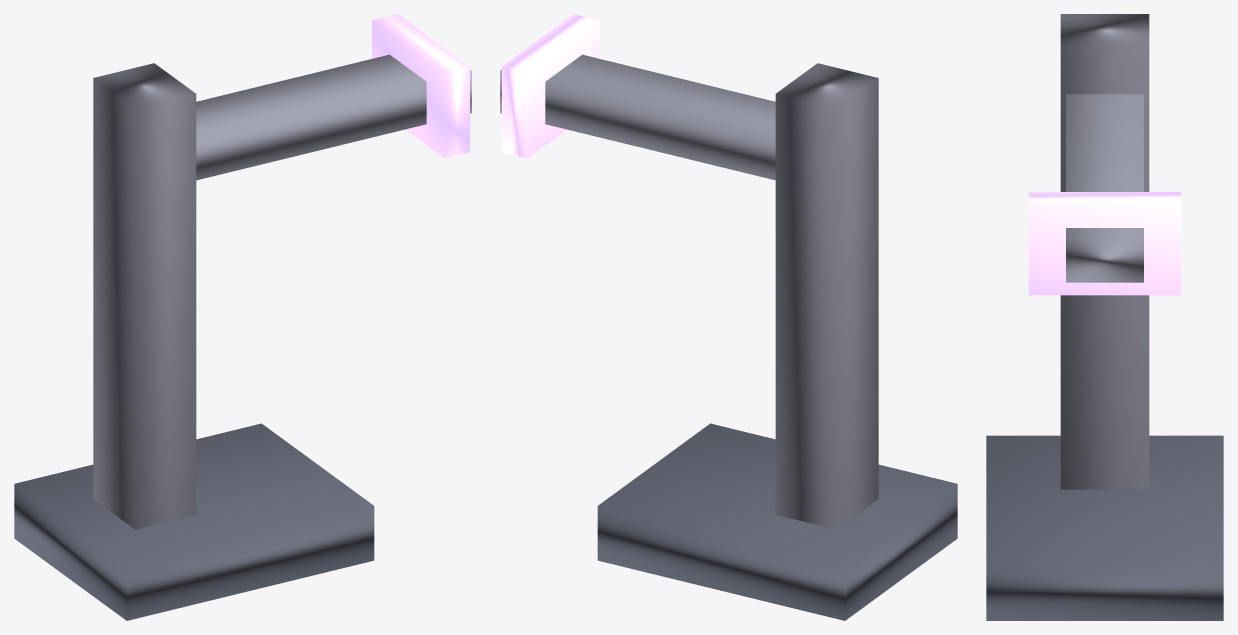
File: parallax-shear-anchor-lod2.glb
3 renders of one model, left to right at view 1: azimuth 30°, elevation 25°; view 2: azimuth 150°, elevation 25°; view 3: azimuth 270°, elevation 25°, orthographic. The views are drawn at different scales.
Visible parts, largest first — view 1: parallax-shear-anchor-spine, parallax-shear-anchor-foot, parallax-shear-anchor-cantilever, parallax-shear-anchor-field-band; view 2: parallax-shear-anchor-spine, parallax-shear-anchor-foot, parallax-shear-anchor-cantilever, parallax-shear-anchor-field-band; view 3: parallax-shear-anchor-foot, parallax-shear-anchor-spine, parallax-shear-anchor-cantilever, parallax-shear-anchor-field-band.
Part boxes in pixels (<box>): parallax-shear-anchor-spine: <box>93,63,196,529</box>; parallax-shear-anchor-foot: <box>14,423,374,620</box>; parallax-shear-anchor-cantilever: <box>196,54,471,180</box>; parallax-shear-anchor-field-band: <box>372,14,470,158</box>; parallax-shear-anchor-spine: <box>775,63,878,529</box>; parallax-shear-anchor-foot: <box>597,423,957,620</box>; parallax-shear-anchor-cantilever: <box>500,54,775,180</box>; parallax-shear-anchor-field-band: <box>501,14,599,158</box>; parallax-shear-anchor-foot: <box>986,435,1223,620</box>; parallax-shear-anchor-spine: <box>1060,14,1149,489</box>; parallax-shear-anchor-cantilever: <box>1066,94,1143,282</box>; parallax-shear-anchor-field-band: <box>1028,192,1181,295</box>.
Size of the model in its own units: 2.63 by 3.12 by 1.34.
